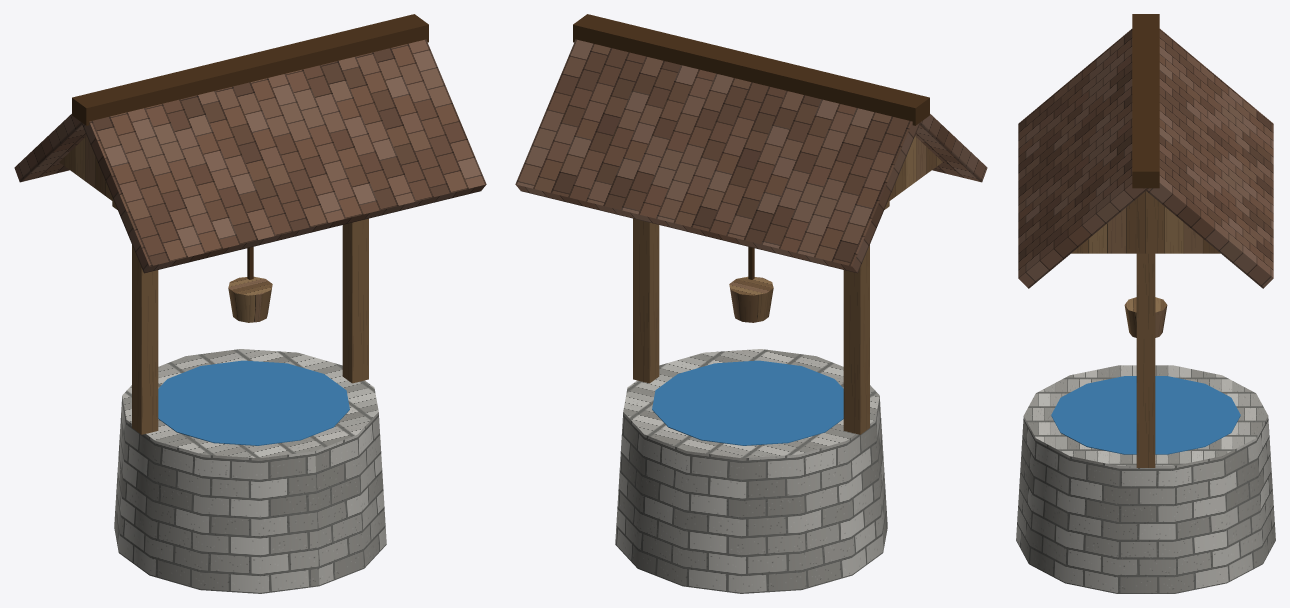
The model's file is well.glb.
The picture shows the model from 3 angles, left to right: view 1: azimuth 30°, elevation 25°; view 2: azimuth 150°, elevation 25°; view 3: azimuth 270°, elevation 25°; orthographic projection. The views are drawn at different scales.
Parts seen in each view (by area): view 1: well; view 2: well; view 3: well.
Part boxes in pixels (x1,y1,x2,y2): well: (14,14,486,593); well: (515,14,987,593); well: (1016,14,1275,593).
Bounding box in the file's own units: 2.44 × 3.23 × 1.7.
5 materials, 3 textured.
